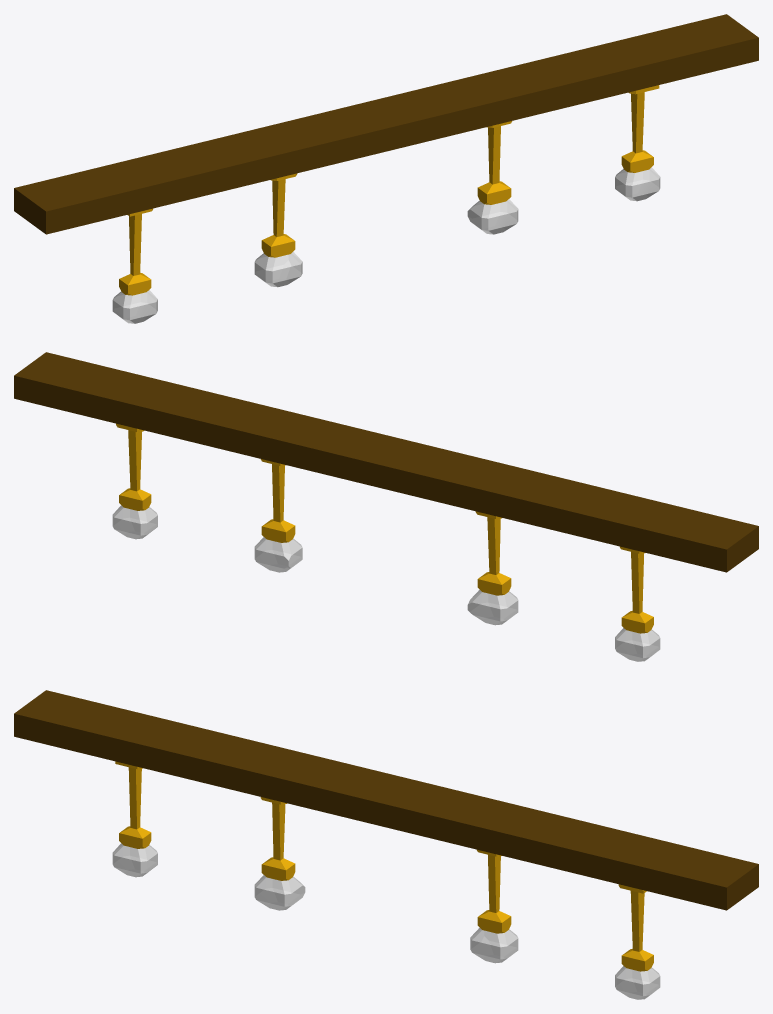
File: Lights_Long.fbx
3 renders of one model, top to bottom at view 1: azimuth 30°, elevation 25°; view 2: azimuth 150°, elevation 25°; view 3: azimuth 330°, elevation 25°, orthographic.
Visible parts, largest first — view 1: Light_long; view 2: Light_long; view 3: Light_long.
Boxes of the visible parts, x1,y1,x2,y2 form: Light_long: (14, 14, 758, 323); Light_long: (14, 352, 758, 661); Light_long: (14, 690, 758, 999).
Size of the model in its own units: 3.84 by 0.7491 by 0.2997.
